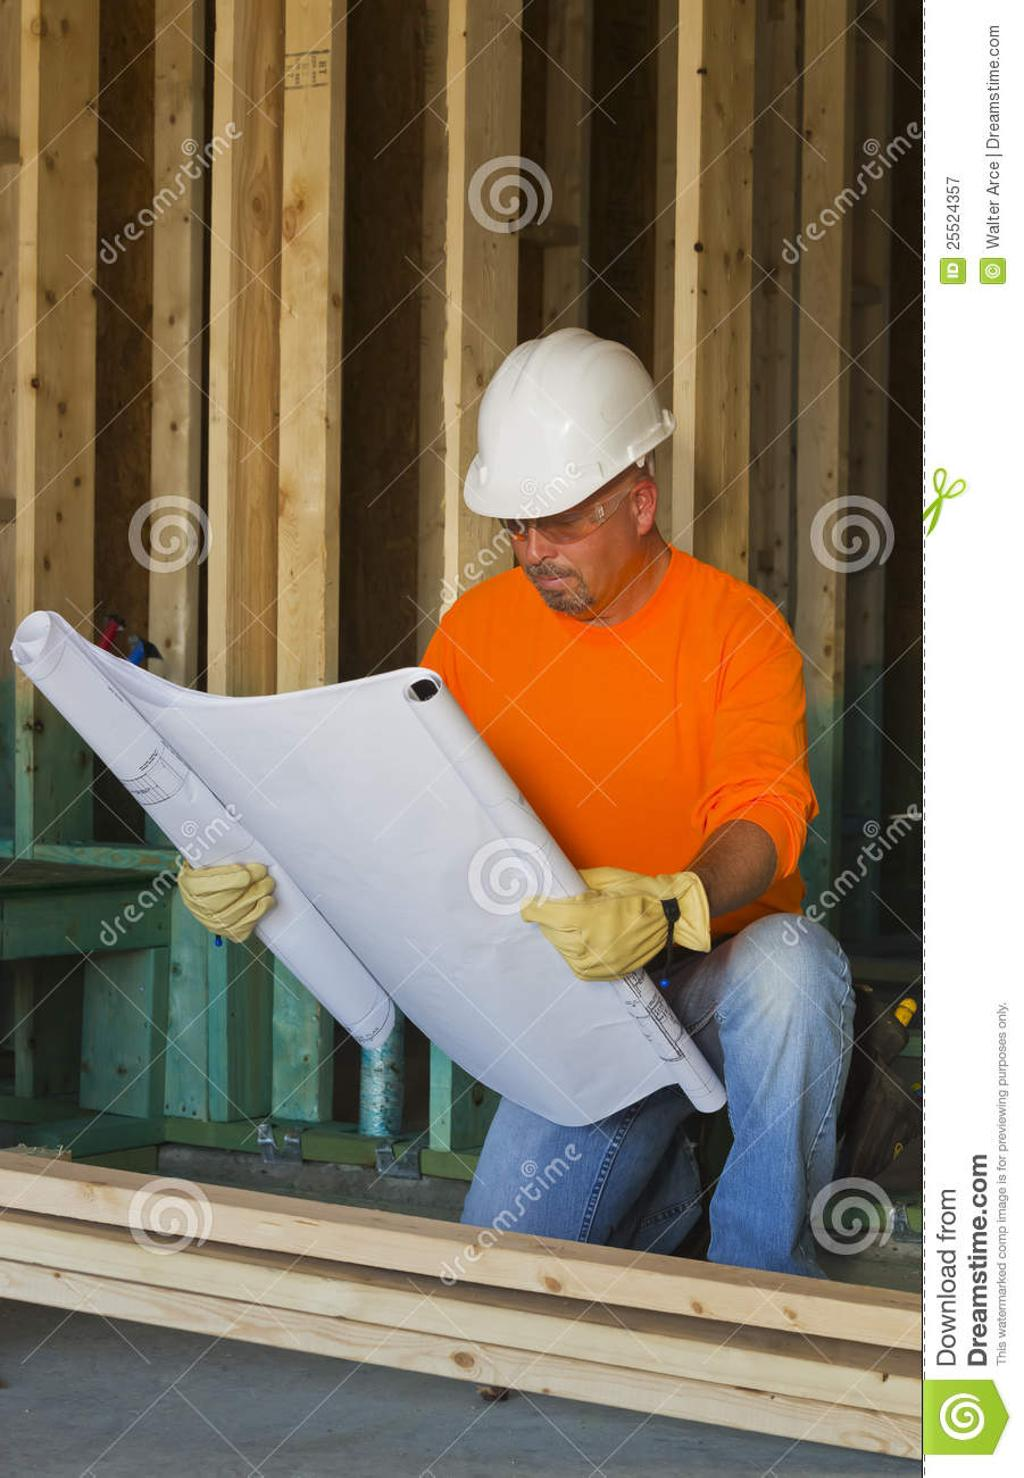face: (508, 410, 632, 609)
